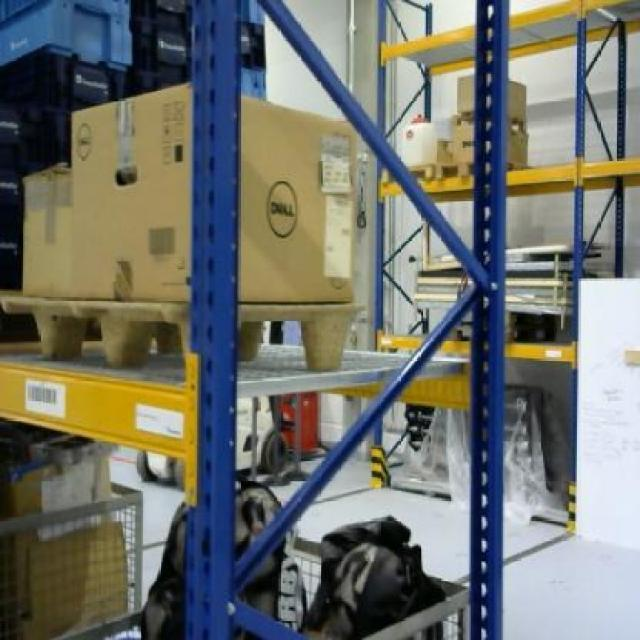box: (70, 74, 358, 300), (18, 164, 74, 292), (448, 119, 474, 167), (460, 72, 483, 110)
